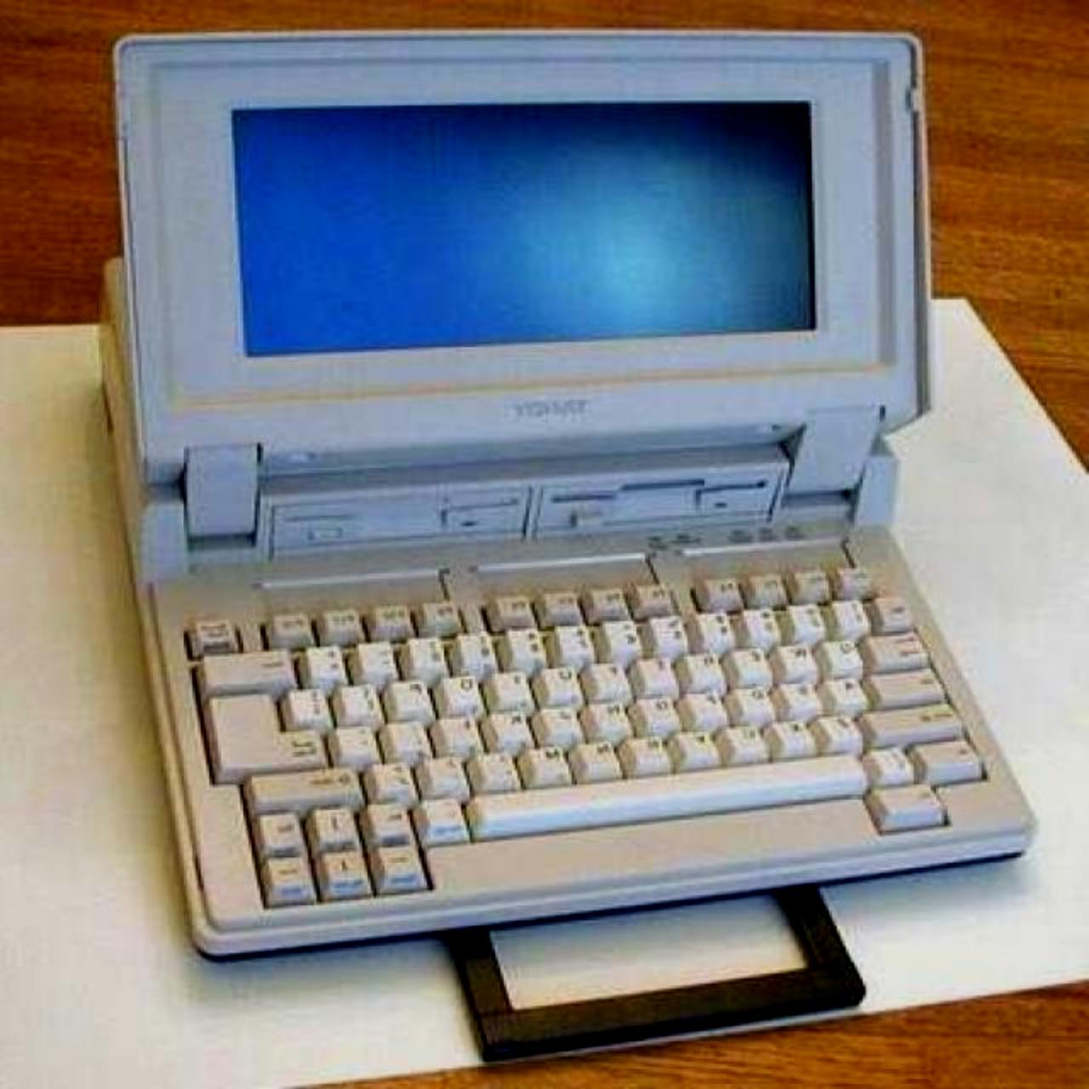laptop: (140, 31, 1028, 943)
